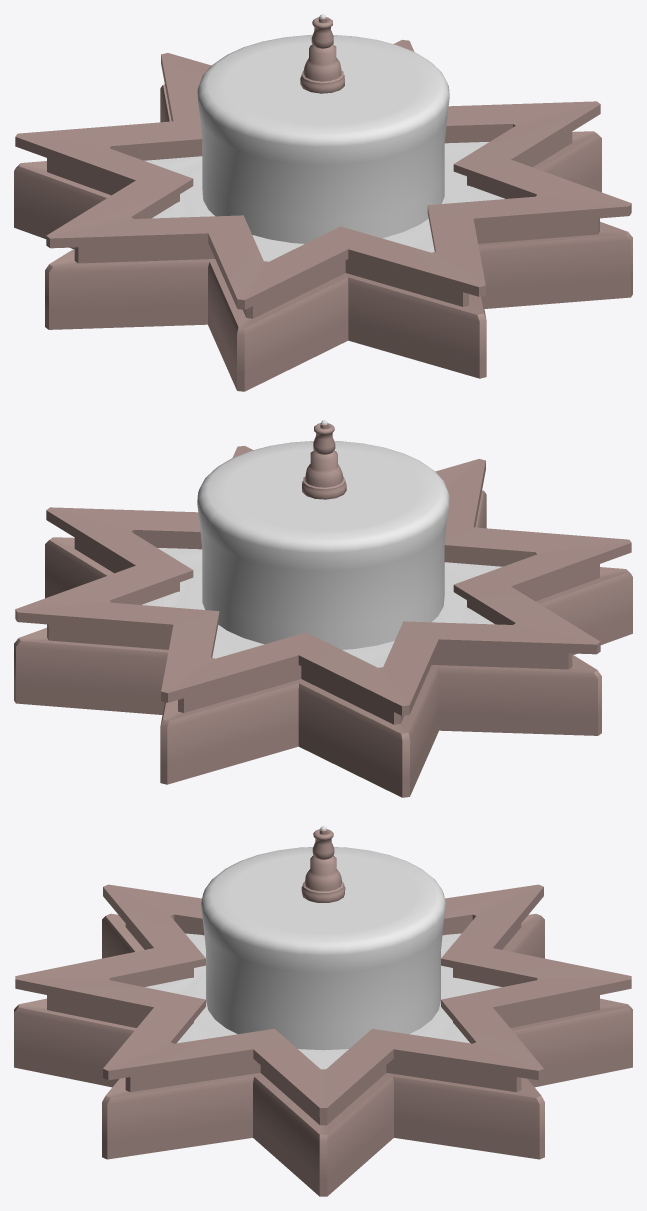
File: water.glb
The picture shows the model from 3 angles, top to bottom: view 1: azimuth 30°, elevation 25°; view 2: azimuth 150°, elevation 25°; view 3: azimuth 270°, elevation 25°; orthographic projection. The views are drawn at different scales.
Parts seen in each view (by area): view 1: fountain, waterMiddle, waterBottom.2; view 2: fountain, waterMiddle, waterBottom.2; view 3: fountain, waterMiddle, waterBottom.2.
Boxes of the visible parts, <box> form: fountain: <box>14,17,632,391</box>; waterMiddle: <box>197,35,449,243</box>; waterBottom.2: <box>144,142,504,261</box>; fountain: <box>14,423,632,797</box>; waterMiddle: <box>197,441,449,649</box>; waterBottom.2: <box>142,548,502,667</box>; fountain: <box>14,829,632,1196</box>; waterMiddle: <box>201,847,445,1050</box>; waterBottom.2: <box>145,933,501,1069</box>.
Size of the model in its own units: 3.74 by 1.59 by 3.74.
